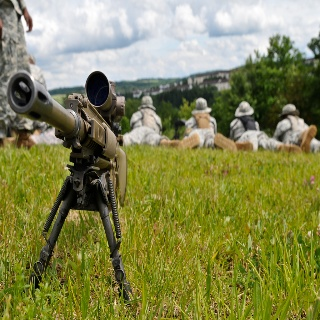rifle: (8, 68, 143, 307)
